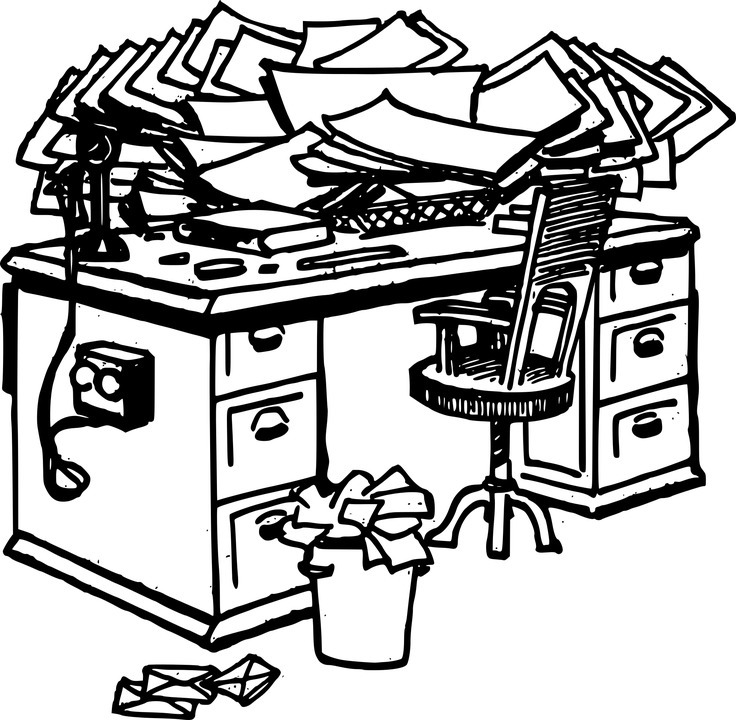chair: (380, 170, 621, 574)
